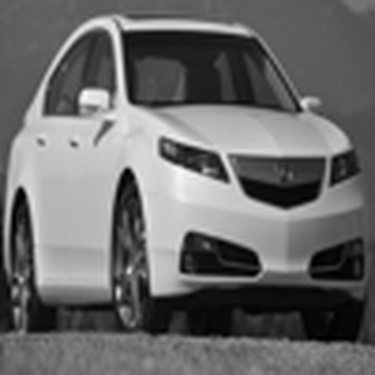car: (5, 4, 372, 341)
